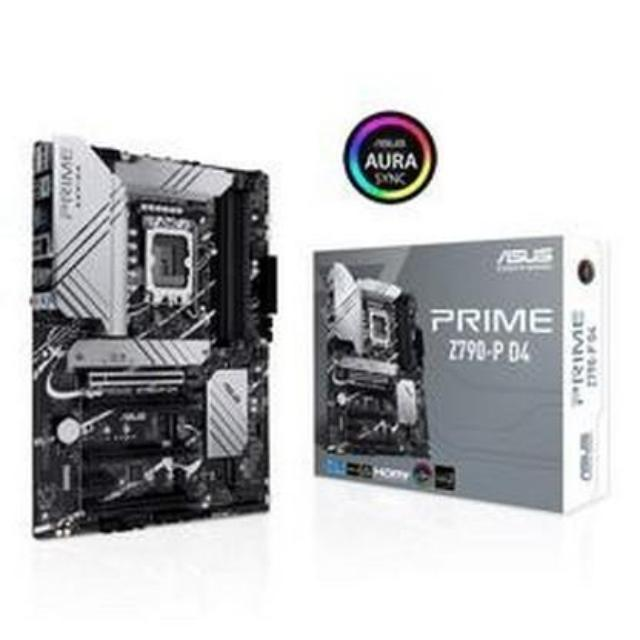Mainboard: (30, 138, 272, 548)
